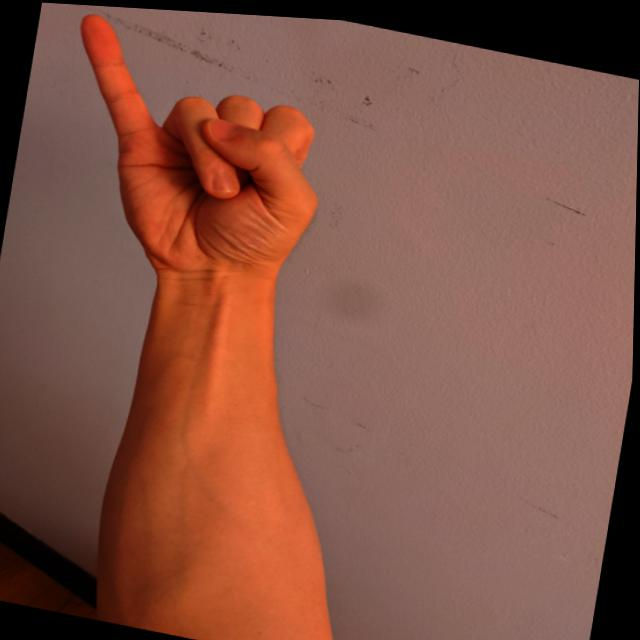I: (35, 3, 350, 306)
